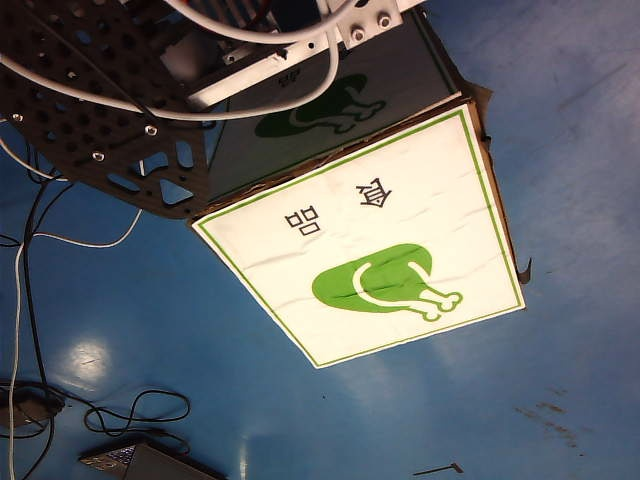Cube_food: (281, 169, 466, 330)
